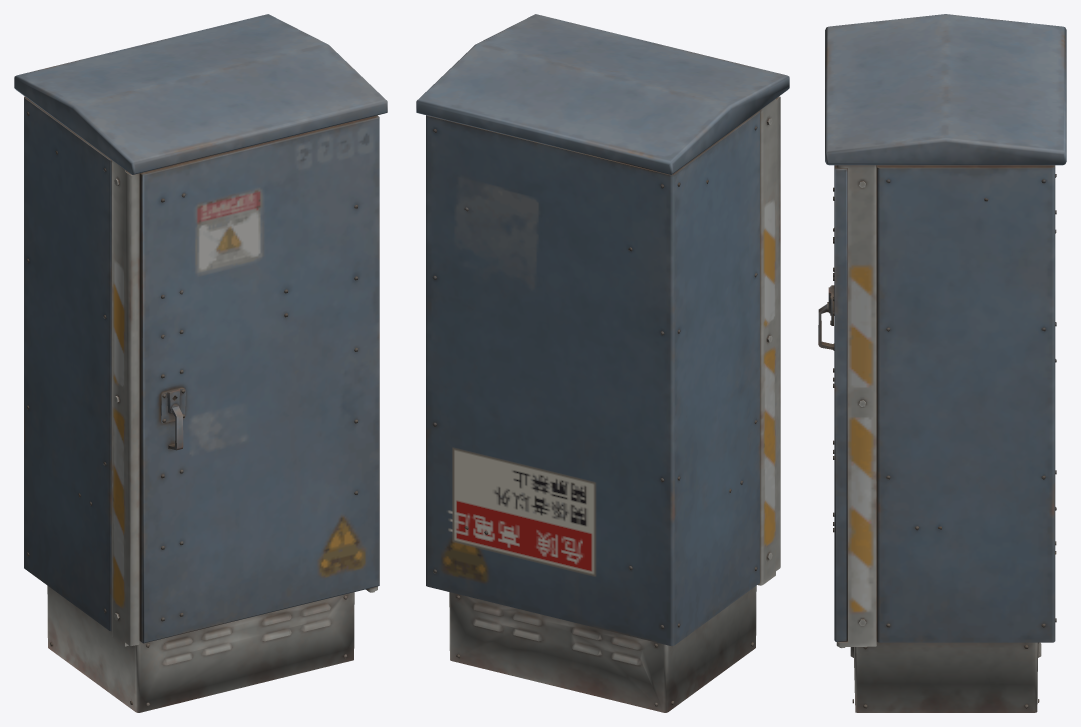
Rendered from utility_box_01.glb.
The picture shows the model from 3 angles, left to right: view 1: azimuth 30°, elevation 25°; view 2: azimuth 150°, elevation 25°; view 3: azimuth 270°, elevation 25°; orthographic projection.
Visible parts, largest first — view 1: utility_box_01_box; view 2: utility_box_01_box; view 3: utility_box_01_box.
Boxes of the visible parts, x1,y1,x2,y2 form: utility_box_01_box: (14, 14, 387, 712); utility_box_01_box: (416, 14, 789, 712); utility_box_01_box: (818, 14, 1066, 712).
Bounding box in the file's own units: 0.52 × 1.12 × 0.432.
Materials: 1 (1 with a texture image).
